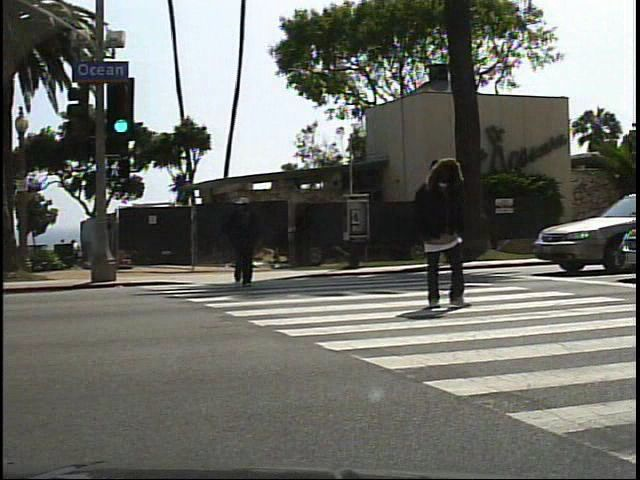person: (404, 154, 486, 318), (225, 194, 263, 294)
